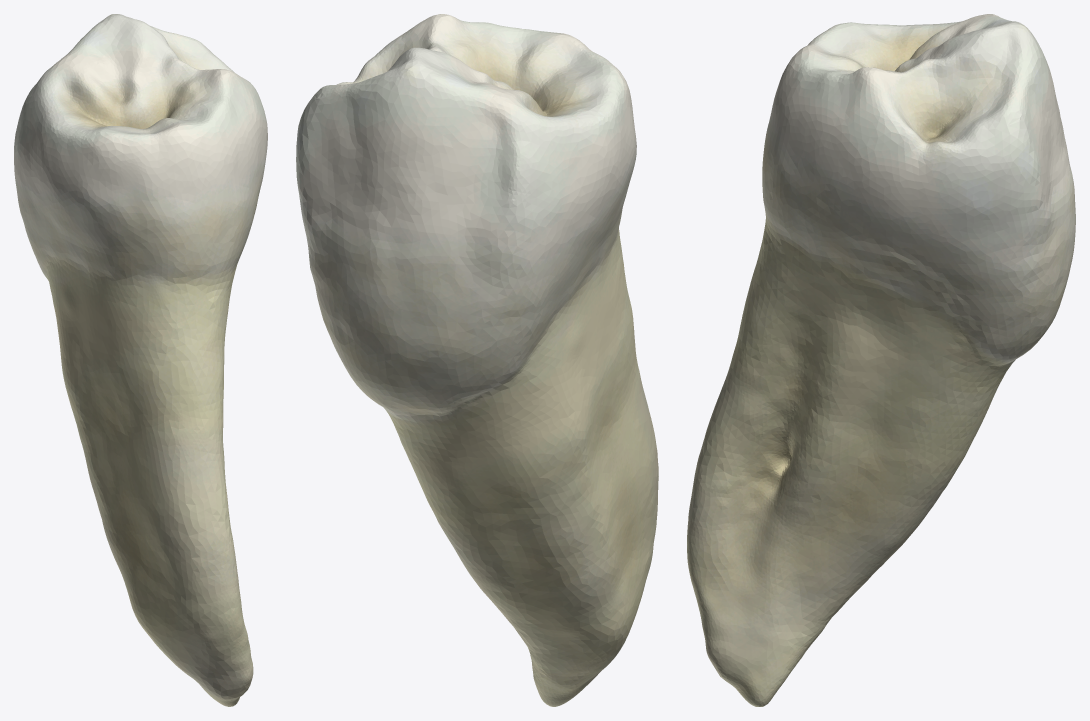
The model's file is 44 quiz 2.glb.
The picture shows the model from 3 angles, left to right: view 1: azimuth 30°, elevation 25°; view 2: azimuth 150°, elevation 25°; view 3: azimuth 270°, elevation 25°; orthographic projection. The views are drawn at different scales.
Visible parts, largest first — view 1: 3MFMeshParent_0; view 2: 3MFMeshParent_0; view 3: 3MFMeshParent_0.
Boxes of the visible parts, x1,y1,x2,y2 form: 3MFMeshParent_0: (14,14,267,706); 3MFMeshParent_0: (296,14,658,706); 3MFMeshParent_0: (687,14,1075,706).
Size of the model in its own units: 0.1941 by 0.512 by 0.2642.
1 material, 1 textured.
